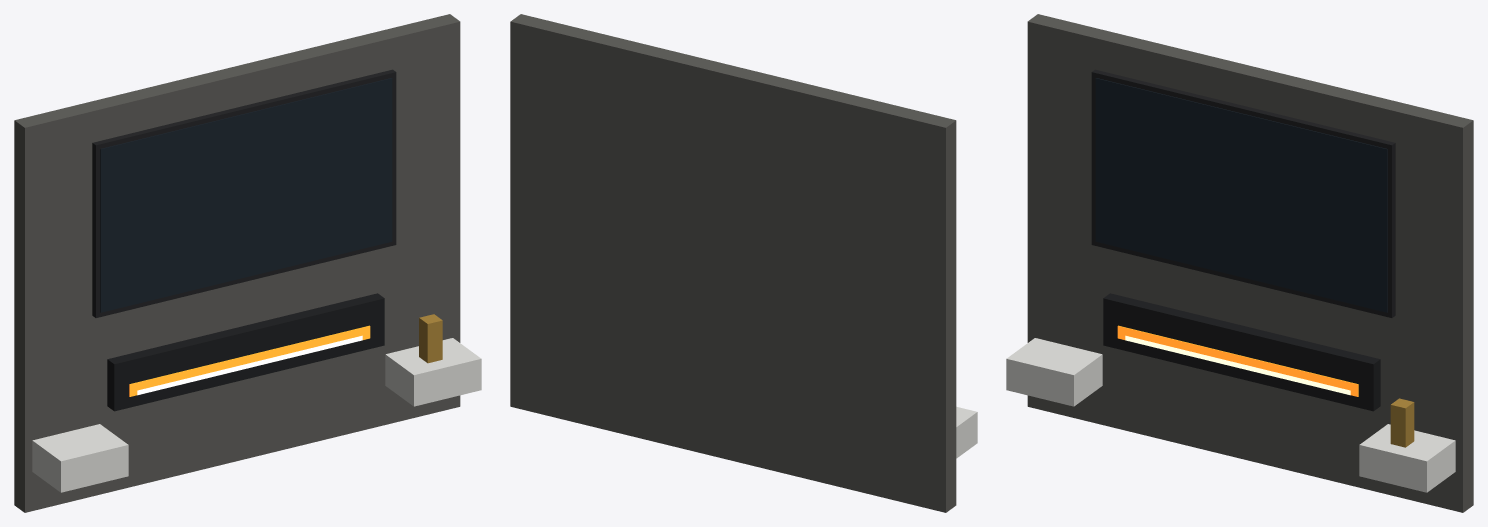
The model's file is media_wall.glb.
3 renders of one model, left to right at view 1: azimuth 30°, elevation 25°; view 2: azimuth 150°, elevation 25°; view 3: azimuth 330°, elevation 25°, orthographic.
Visible parts, largest first — view 1: media_wall; view 2: media_wall; view 3: media_wall.
Boxes of the visible parts, x1,y1,x2,y2 form: media_wall: (14,14,481,512); media_wall: (510,14,977,512); media_wall: (1006,14,1473,512).
Bounding box in the file's own units: 2.9 × 2.45 × 0.45.
1 material, 1 textured.
